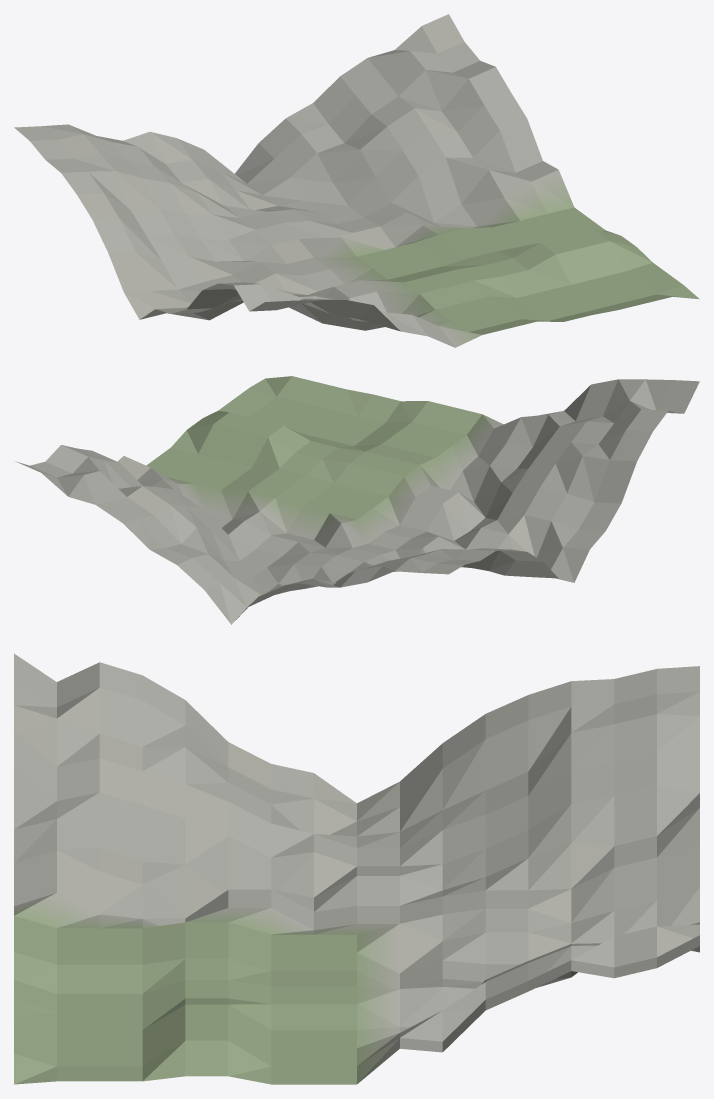
3 renders of one model, top to bottom at view 1: azimuth 30°, elevation 25°; view 2: azimuth 150°, elevation 25°; view 3: azimuth 270°, elevation 25°, orthographic. The views are drawn at different scales.
Size of the model in its own units: 32 by 8.1 by 32.
